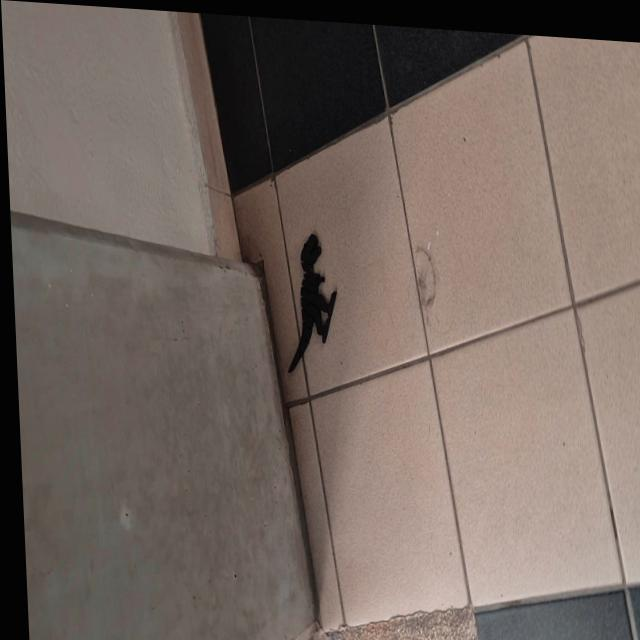dino: (280, 231, 340, 377)
